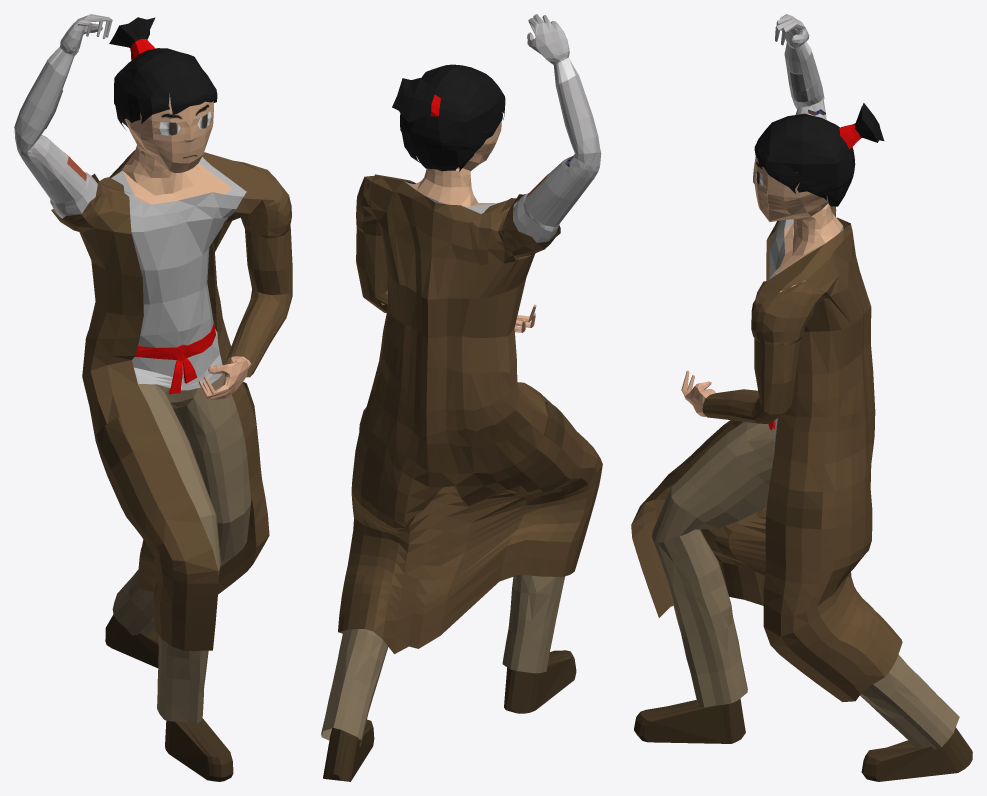
File: Special_Attack_000011.obj
The picture shows the model from 3 angles, left to right: view 1: azimuth 30°, elevation 25°; view 2: azimuth 150°, elevation 25°; view 3: azimuth 270°, elevation 25°; orthographic projection. The views are drawn at different scales.
Visible parts, largest first — view 1: Hair_Cube.004; view 2: Hair_Cube.004; view 3: Hair_Cube.004.
Boxes of the visible parts, bbox=[...] form: Hair_Cube.004: bbox=[14, 14, 292, 781]; Hair_Cube.004: bbox=[321, 14, 602, 781]; Hair_Cube.004: bbox=[631, 14, 972, 781].
Bounding box in the file's own units: 1.44 × 3.89 × 1.73.
